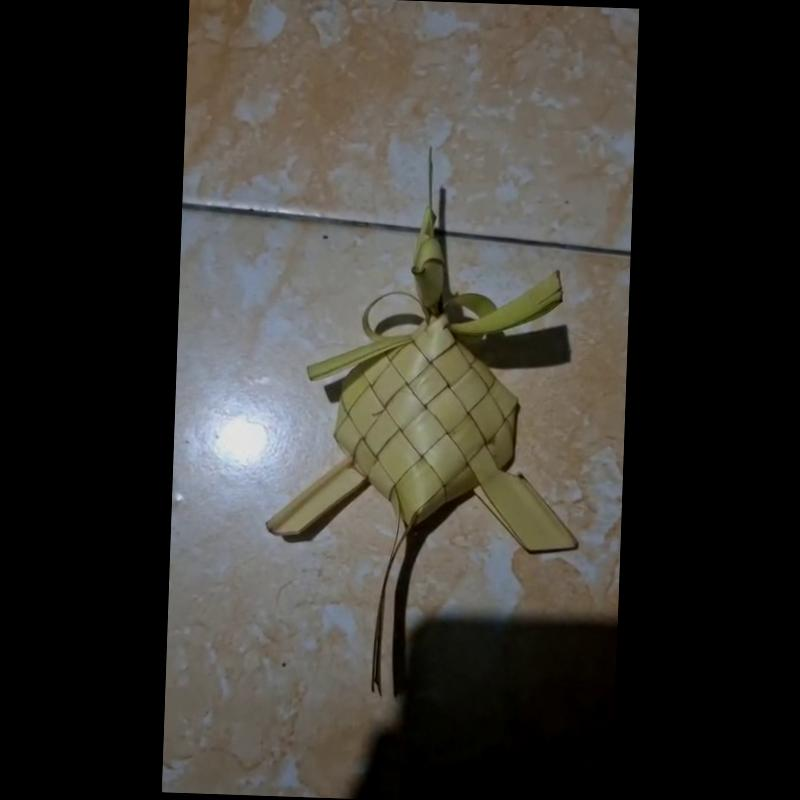Tipat Dampulan: (261, 149, 603, 710)
